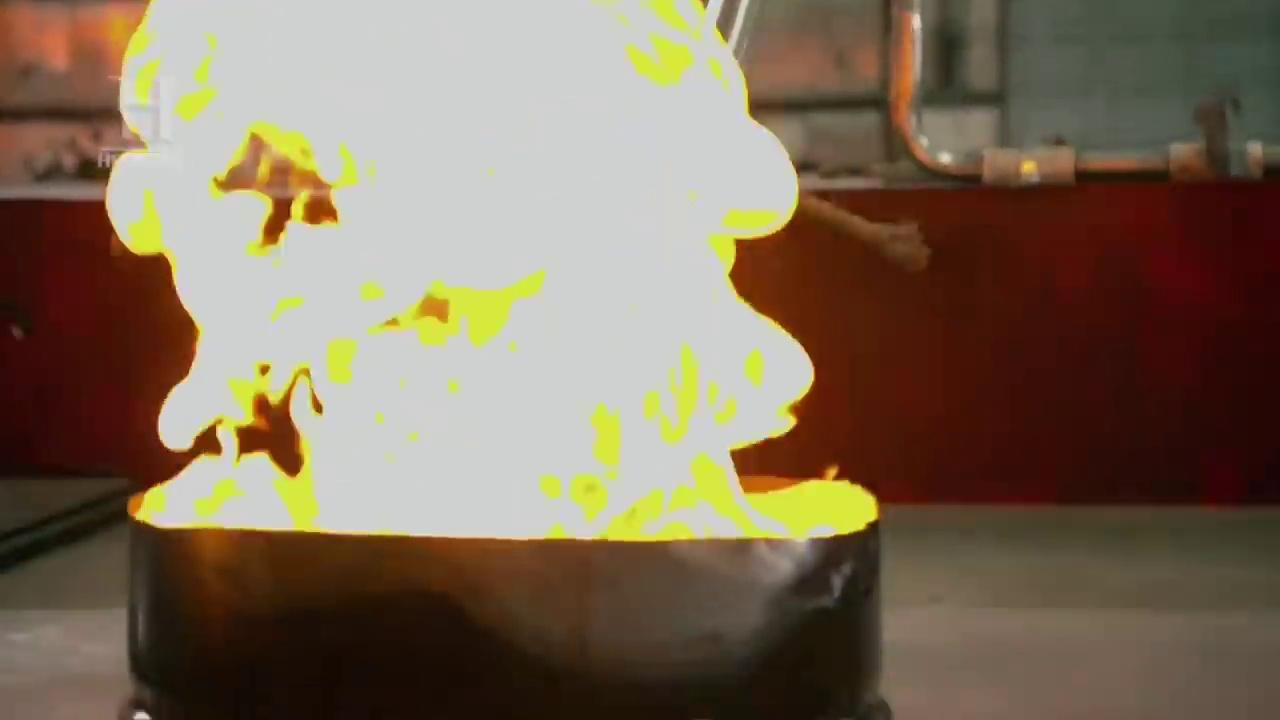fire: (632, 462, 886, 548), (204, 132, 362, 243), (364, 277, 544, 335), (254, 447, 328, 540)
